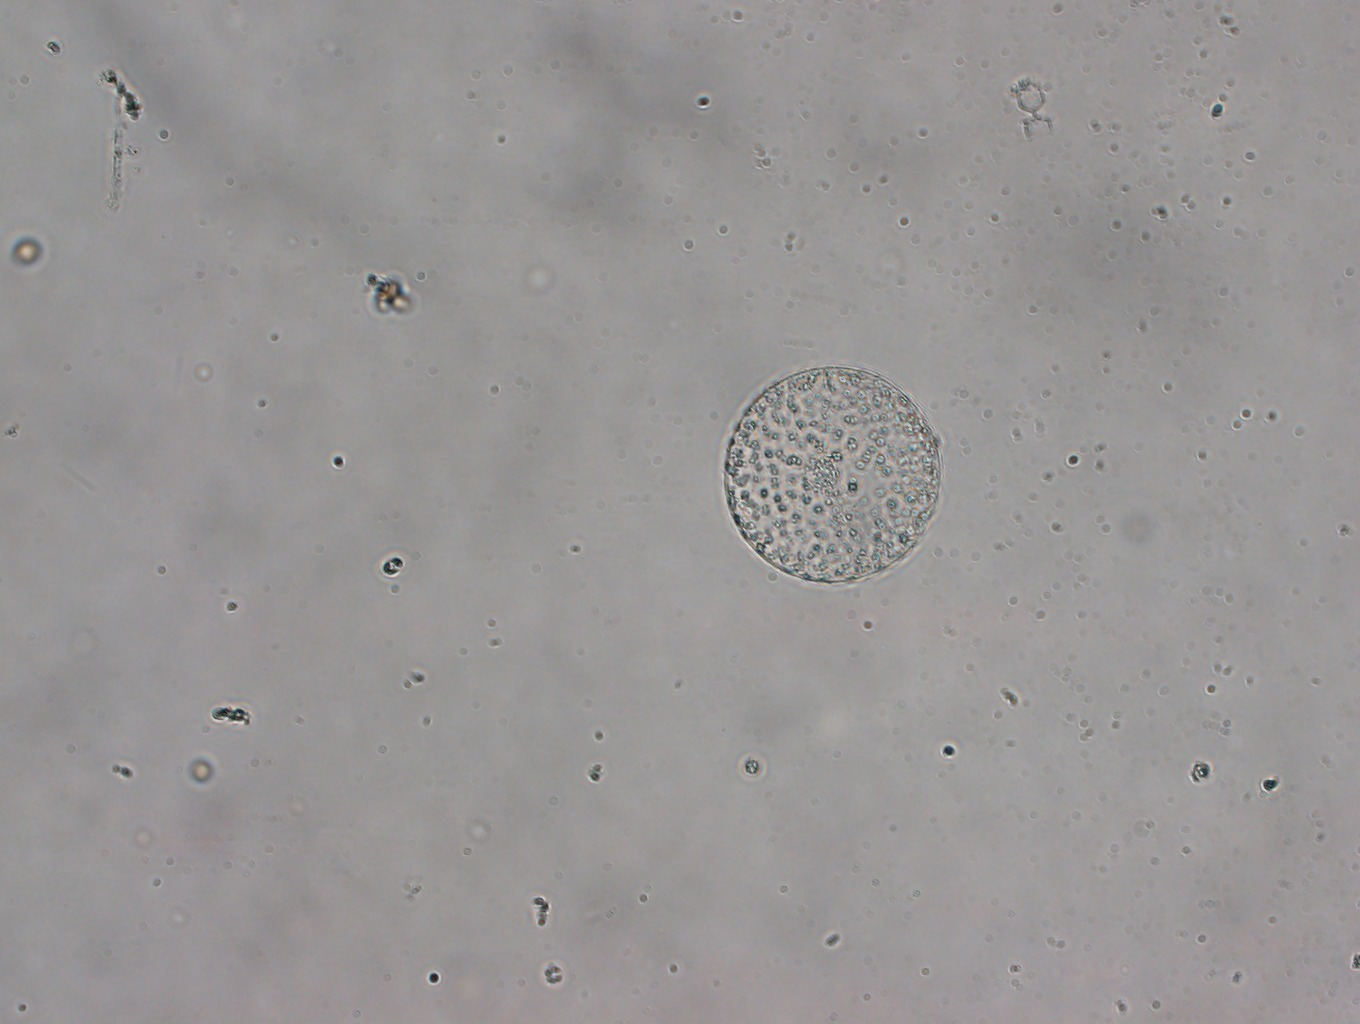coscinodiscus: (725, 367, 940, 584)
